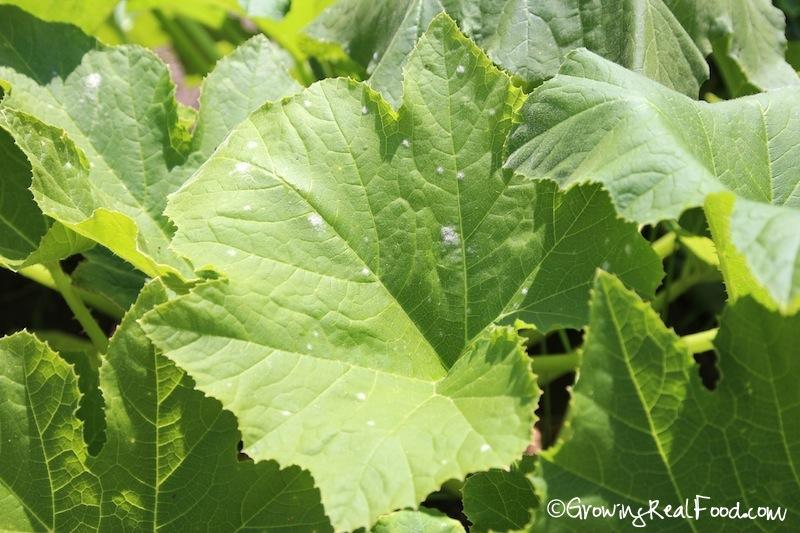Squash Powdery mildew leaf: (130, 26, 664, 519)
